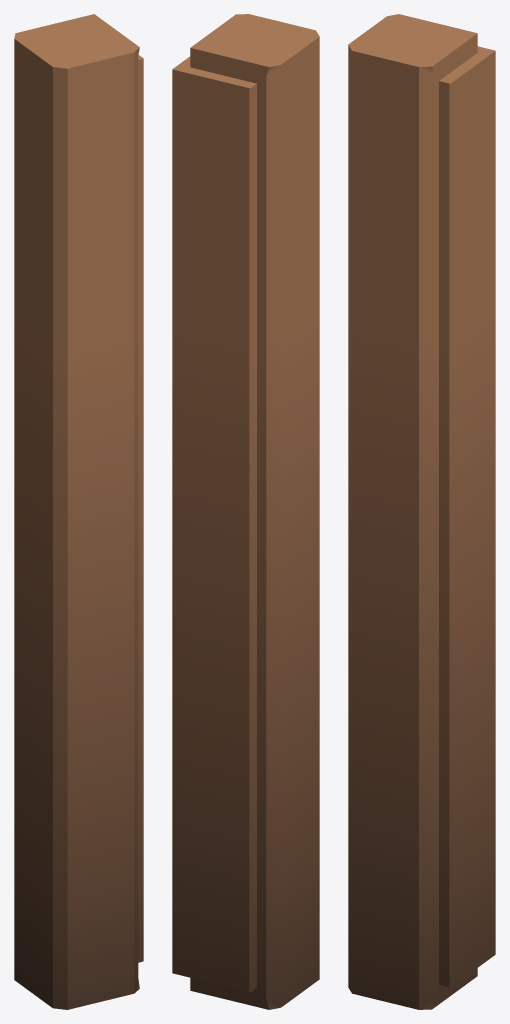
Rendered from blockedPillar.fbx.
3 renders of one model, left to right at view 1: azimuth 30°, elevation 25°; view 2: azimuth 150°, elevation 25°; view 3: azimuth 330°, elevation 25°, orthographic.
Parts seen in each view (by area): view 1: blockedPillar; view 2: blockedPillar; view 3: blockedPillar.
Part boxes in pixels (x1=…): blockedPillar: x1=14, y1=14, x2=143, y2=1009; blockedPillar: x1=172, y1=14, x2=319, y2=1009; blockedPillar: x1=348, y1=14, x2=495, y2=1009.
Size of the model in its own units: 0.3229 by 3 by 0.3229.
